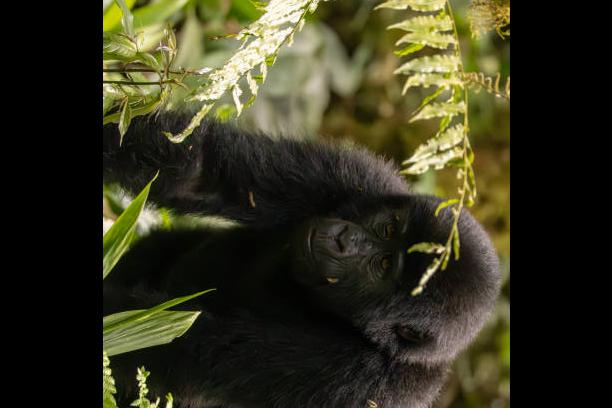goriile_montagne: (103, 52, 509, 408)
